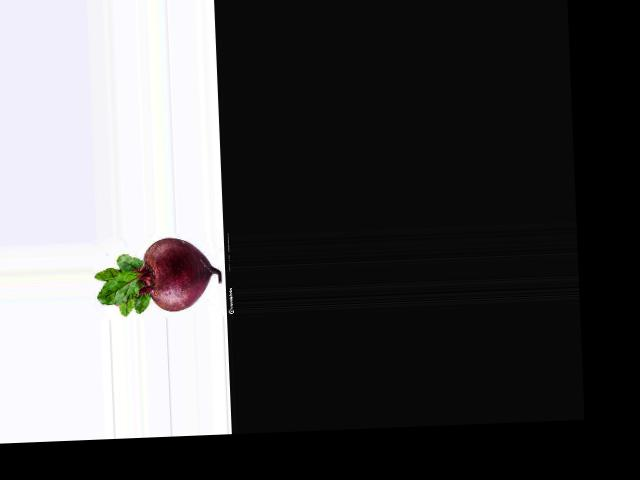beet: (93, 235, 222, 317)
